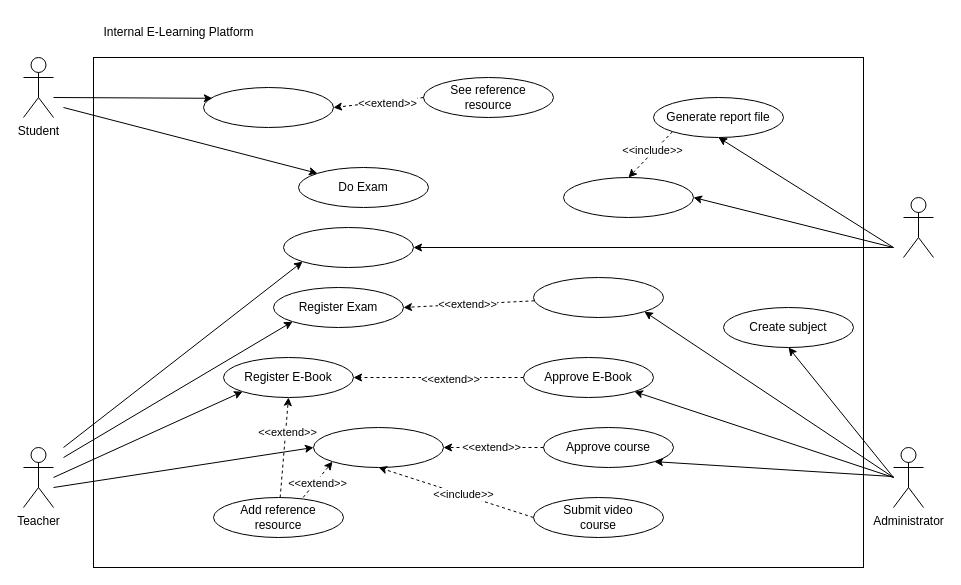
This 961x585 diagram has some shape labels left out. Each missing label, with the box of its shape:
Approve Exam: (532, 276, 664, 318)
Check Exam: (282, 226, 414, 268)
Register course: (312, 426, 444, 468)
Report score/grade: (562, 176, 694, 218)
System: (902, 196, 934, 258)
Watch video course: (202, 86, 334, 128)
